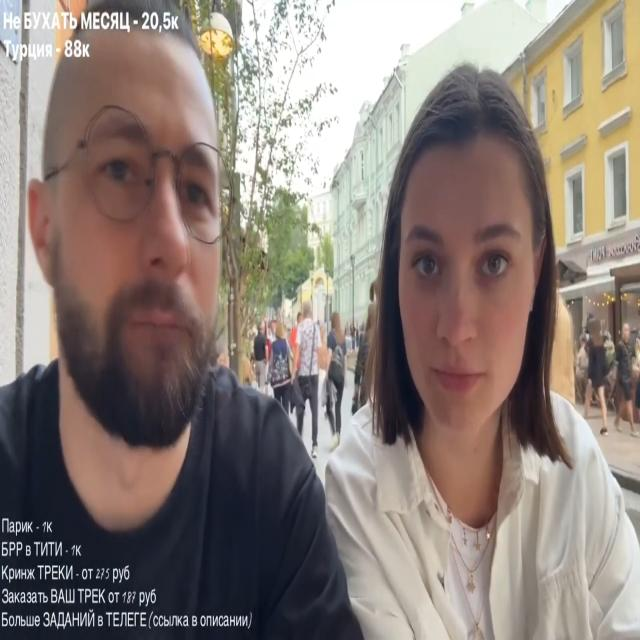Person: (223, 43, 640, 640), (0, 32, 367, 640), (290, 302, 328, 449), (266, 322, 304, 424), (585, 331, 617, 431), (615, 322, 640, 437), (253, 325, 271, 392)
